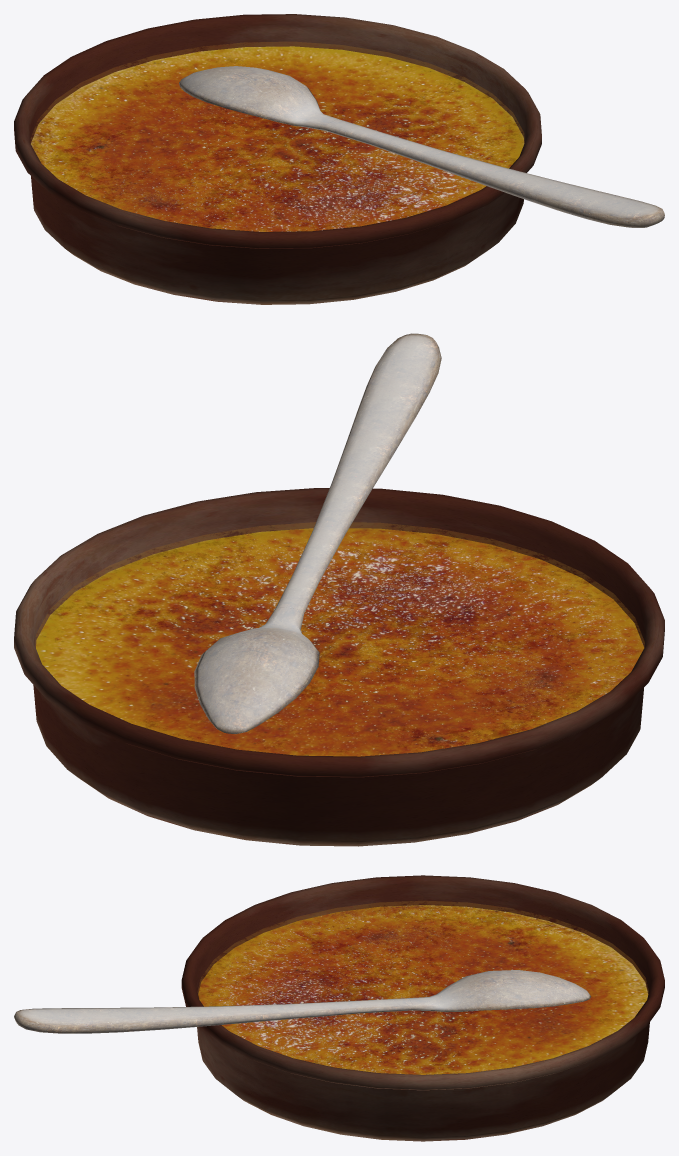
Rendered from creme_brulee.glb.
3 renders of one model, top to bottom at view 1: azimuth 30°, elevation 25°; view 2: azimuth 150°, elevation 25°; view 3: azimuth 270°, elevation 25°, orthographic. The views are drawn at different scales.
Parts seen in each view (by area): view 1: sucre_LR, creme_LR, pot_LR, cuillere_LR; view 2: sucre_LR, creme_LR, pot_LR, cuillere_LR; view 3: sucre_LR, creme_LR, pot_LR, cuillere_LR.
Boxes of the visible parts, <box> form: sucre_LR: <box>30,42,524,231</box>; creme_LR: <box>31,46,524,231</box>; pot_LR: <box>14,14,541,304</box>; cuillere_LR: <box>179,66,664,227</box>; sucre_LR: <box>35,522,644,756</box>; creme_LR: <box>36,528,643,756</box>; pot_LR: <box>14,488,664,846</box>; cuillere_LR: <box>194,333,441,733</box>; sucre_LR: <box>198,901,648,1074</box>; creme_LR: <box>198,905,648,1074</box>; pot_LR: <box>181,875,664,1141</box>; cuillere_LR: <box>14,970,590,1033</box>.
Size of what is drawn, in the model's own units: 0.0438 by 0.0111 by 0.059.
Materials: 4 (4 with a texture image).
